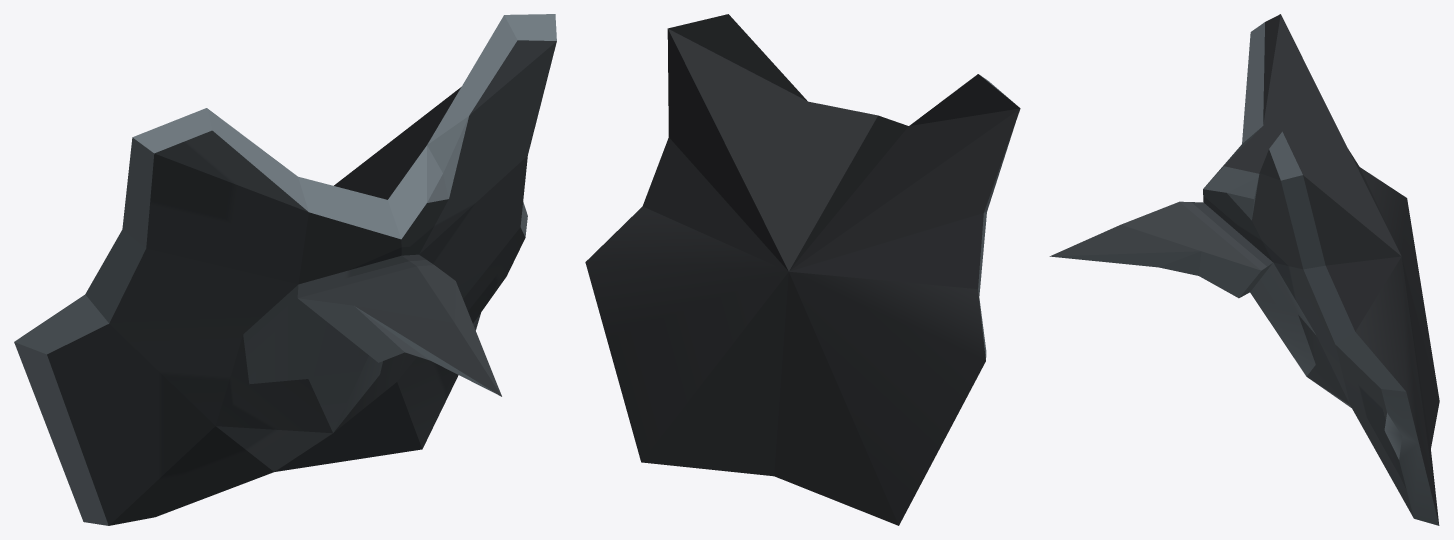
The model's file is SM_Chr_Attach_Armour_Dark_Chest_Small_01.fbx.
The picture shows the model from 3 angles, left to right: view 1: azimuth 30°, elevation 25°; view 2: azimuth 150°, elevation 25°; view 3: azimuth 270°, elevation 25°; orthographic projection. The views are drawn at different scales.
Visible parts, largest first — view 1: SM_Chr_Attach_Armour_Dark_Chest_Small_01; view 2: SM_Chr_Attach_Armour_Dark_Chest_Small_01; view 3: SM_Chr_Attach_Armour_Dark_Chest_Small_01.
Boxes of the visible parts, x1=… form: SM_Chr_Attach_Armour_Dark_Chest_Small_01: x1=14, y1=14, x2=556, y2=525; SM_Chr_Attach_Armour_Dark_Chest_Small_01: x1=585, y1=14, x2=1020, y2=525; SM_Chr_Attach_Armour_Dark_Chest_Small_01: x1=1049, y1=14, x2=1439, y2=525.
Size of the model in its own units: 21.85 by 20.47 by 18.53.
